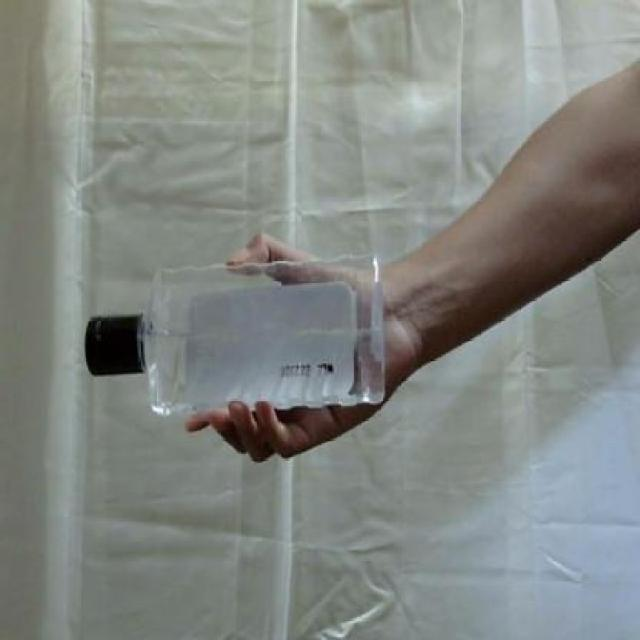Plastic: (84, 254, 387, 413)
